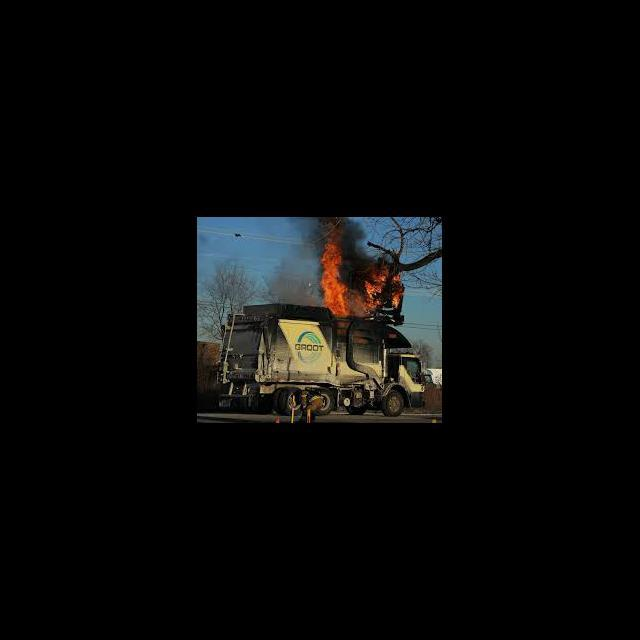Fire: (318, 217, 352, 317), (356, 259, 403, 317)
